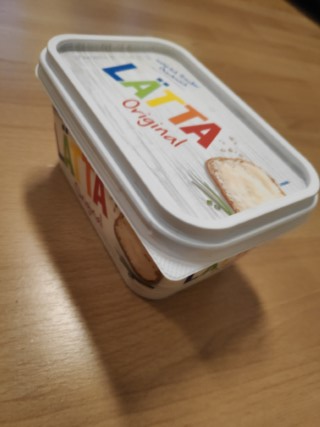laetta: (35, 32, 320, 301)
